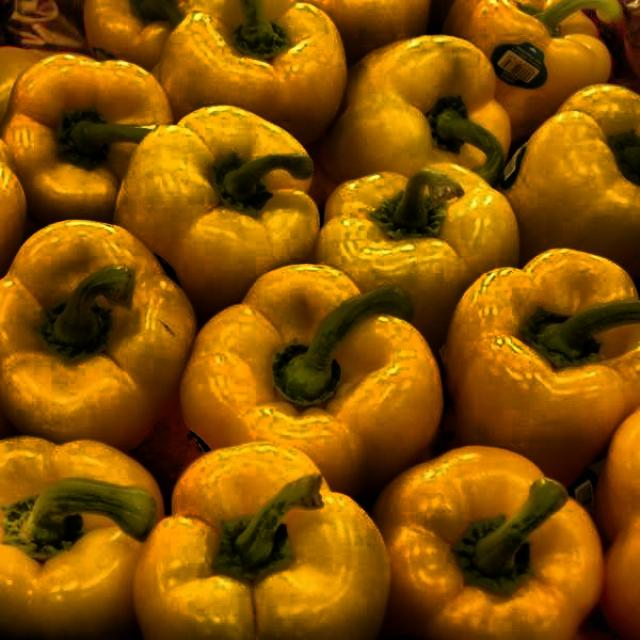capsicum: (14, 22, 598, 619)
